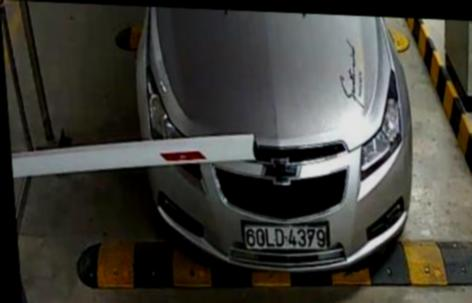License_Plate: (241, 221, 331, 252)
